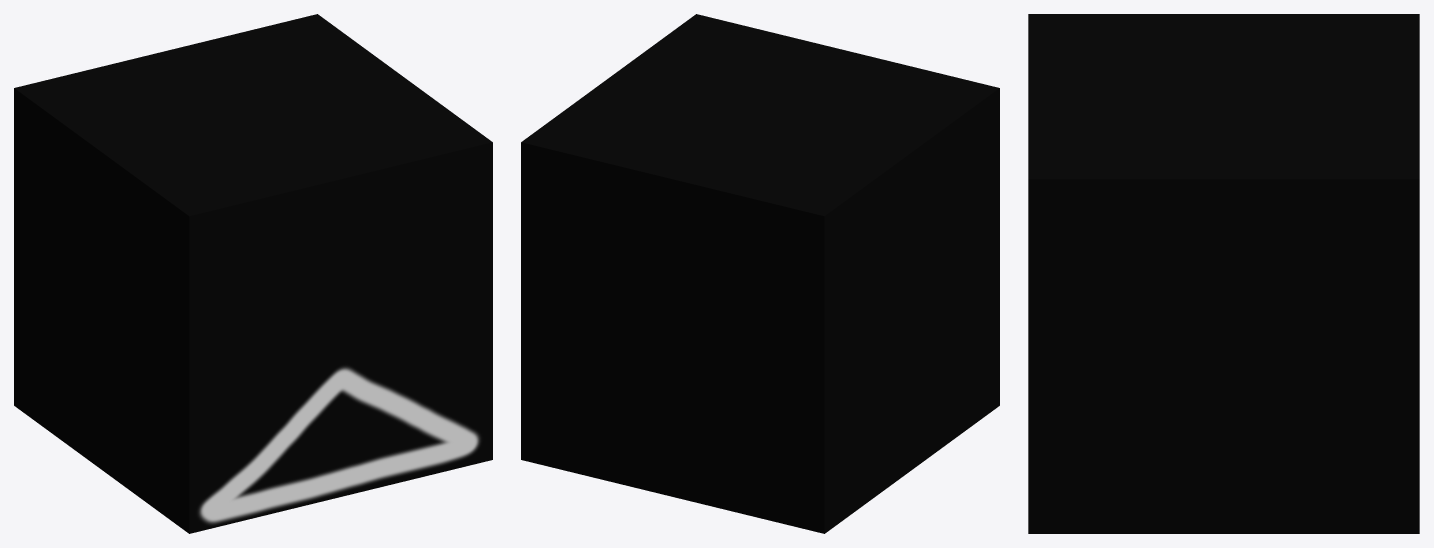
Rendered from block.fbx.
The picture shows the model from 3 angles, left to right: view 1: azimuth 30°, elevation 25°; view 2: azimuth 150°, elevation 25°; view 3: azimuth 270°, elevation 25°; orthographic projection. The views are drawn at different scales.
Visible parts, largest first — view 1: cube; view 2: cube; view 3: cube.
Boxes of the visible parts, x1,y1,x2,y2 form: cube: [14, 14, 492, 533]; cube: [521, 14, 999, 533]; cube: [1028, 14, 1419, 533].
Size of the model in its own units: 200 by 200 by 200.
Materials: 3 (1 with a texture image).
